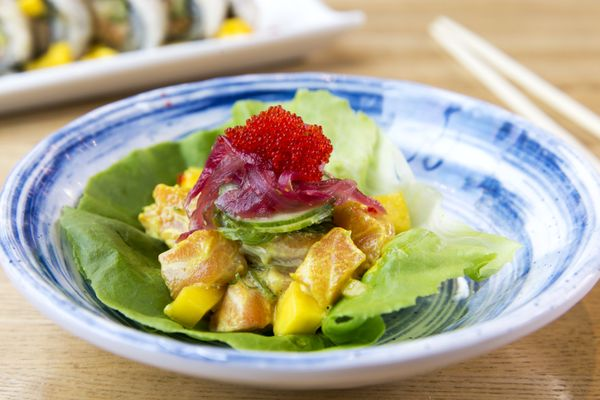sushi: (0, 69, 592, 389)
